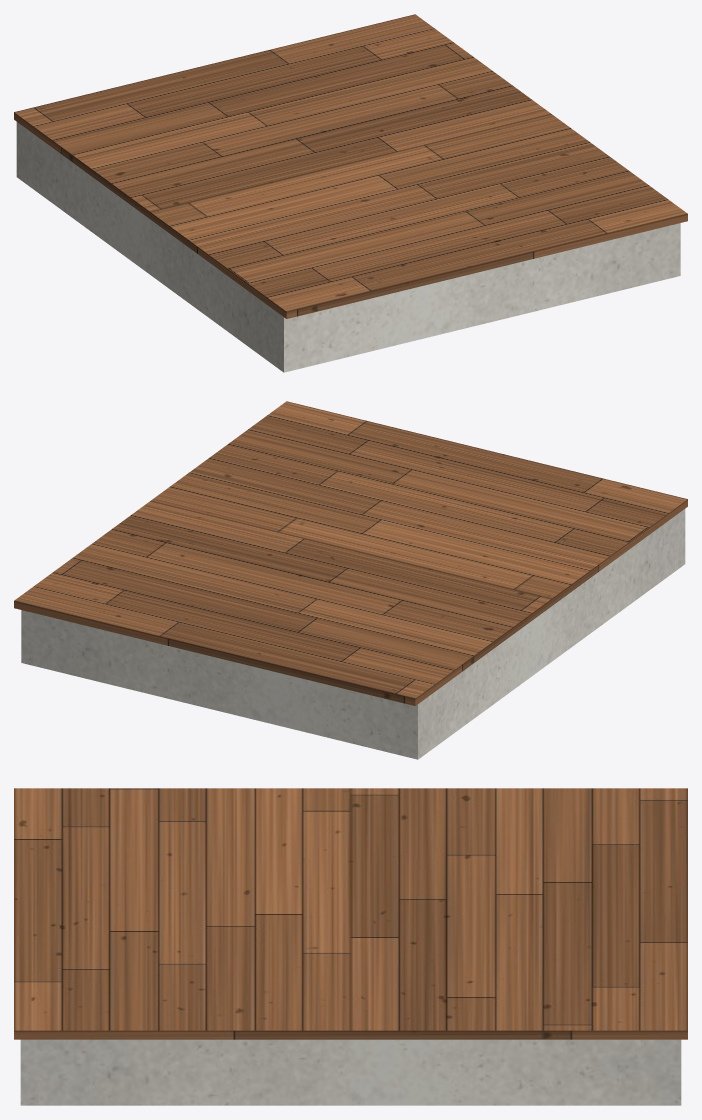
File: floor_tile_e1000.glb
The picture shows the model from 3 angles, top to bottom: view 1: azimuth 30°, elevation 25°; view 2: azimuth 150°, elevation 25°; view 3: azimuth 270°, elevation 25°; orthographic projection. The views are drawn at different scales.
Parts seen in each view (by area): view 1: floor_tile_e1000_floor, floor_tile_e1000_plaster; view 2: floor_tile_e1000_floor, floor_tile_e1000_plaster; view 3: floor_tile_e1000_floor, floor_tile_e1000_plaster.
Part boxes in pixels (<box>): floor_tile_e1000_floor: <box>14,14,687,318</box>; floor_tile_e1000_plaster: <box>16,122,680,372</box>; floor_tile_e1000_floor: <box>14,401,687,705</box>; floor_tile_e1000_plaster: <box>21,509,685,759</box>; floor_tile_e1000_floor: <box>14,788,687,1039</box>; floor_tile_e1000_plaster: <box>20,1039,681,1105</box>.
Size of the model in its own units: 1.7 by 0.255 by 2.
2 materials, 2 textured.
